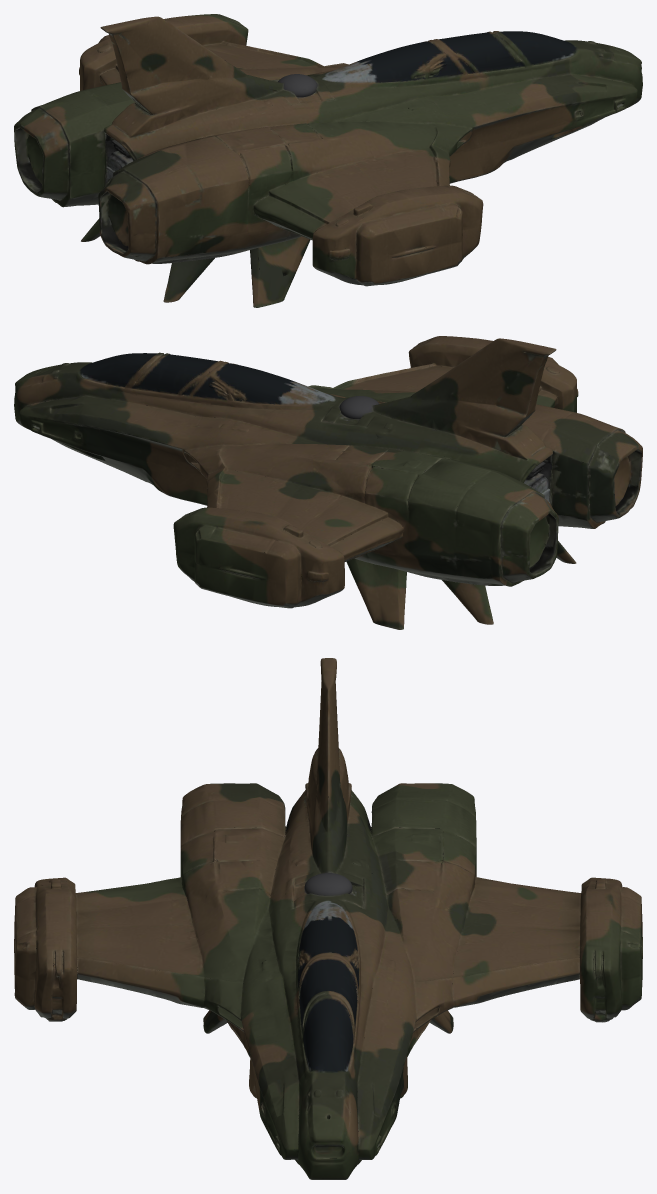
File: fh_hangar_attacker_t5.glb
The picture shows the model from 3 angles, top to bottom: view 1: azimuth 30°, elevation 25°; view 2: azimuth 150°, elevation 25°; view 3: azimuth 270°, elevation 25°; orthographic projection. The views are drawn at different scales.
Parts seen in each view (by area): view 1: fh_hangar_attacker_t5, flap_r; view 2: fh_hangar_attacker_t5, flap_l; view 3: fh_hangar_attacker_t5, slat_l, slat_r, flap_l, flap_r.
Part boxes in pixels (<box>): fh_hangar_attacker_t5: <box>14,14,642,307</box>; flap_r: <box>258,183,334,240</box>; fh_hangar_attacker_t5: <box>14,336,642,629</box>; flap_l: <box>322,505,398,561</box>; fh_hangar_attacker_t5: <box>14,658,642,1179</box>; slat_l: <box>509,952,576,994</box>; slat_r: <box>80,952,147,994</box>; flap_l: <box>486,879,554,897</box>; flap_r: <box>102,879,170,898</box>.
Bounding box in the file's own units: 1 × 0.4462 × 0.8353.
Materials: 3 (2 with a texture image).
